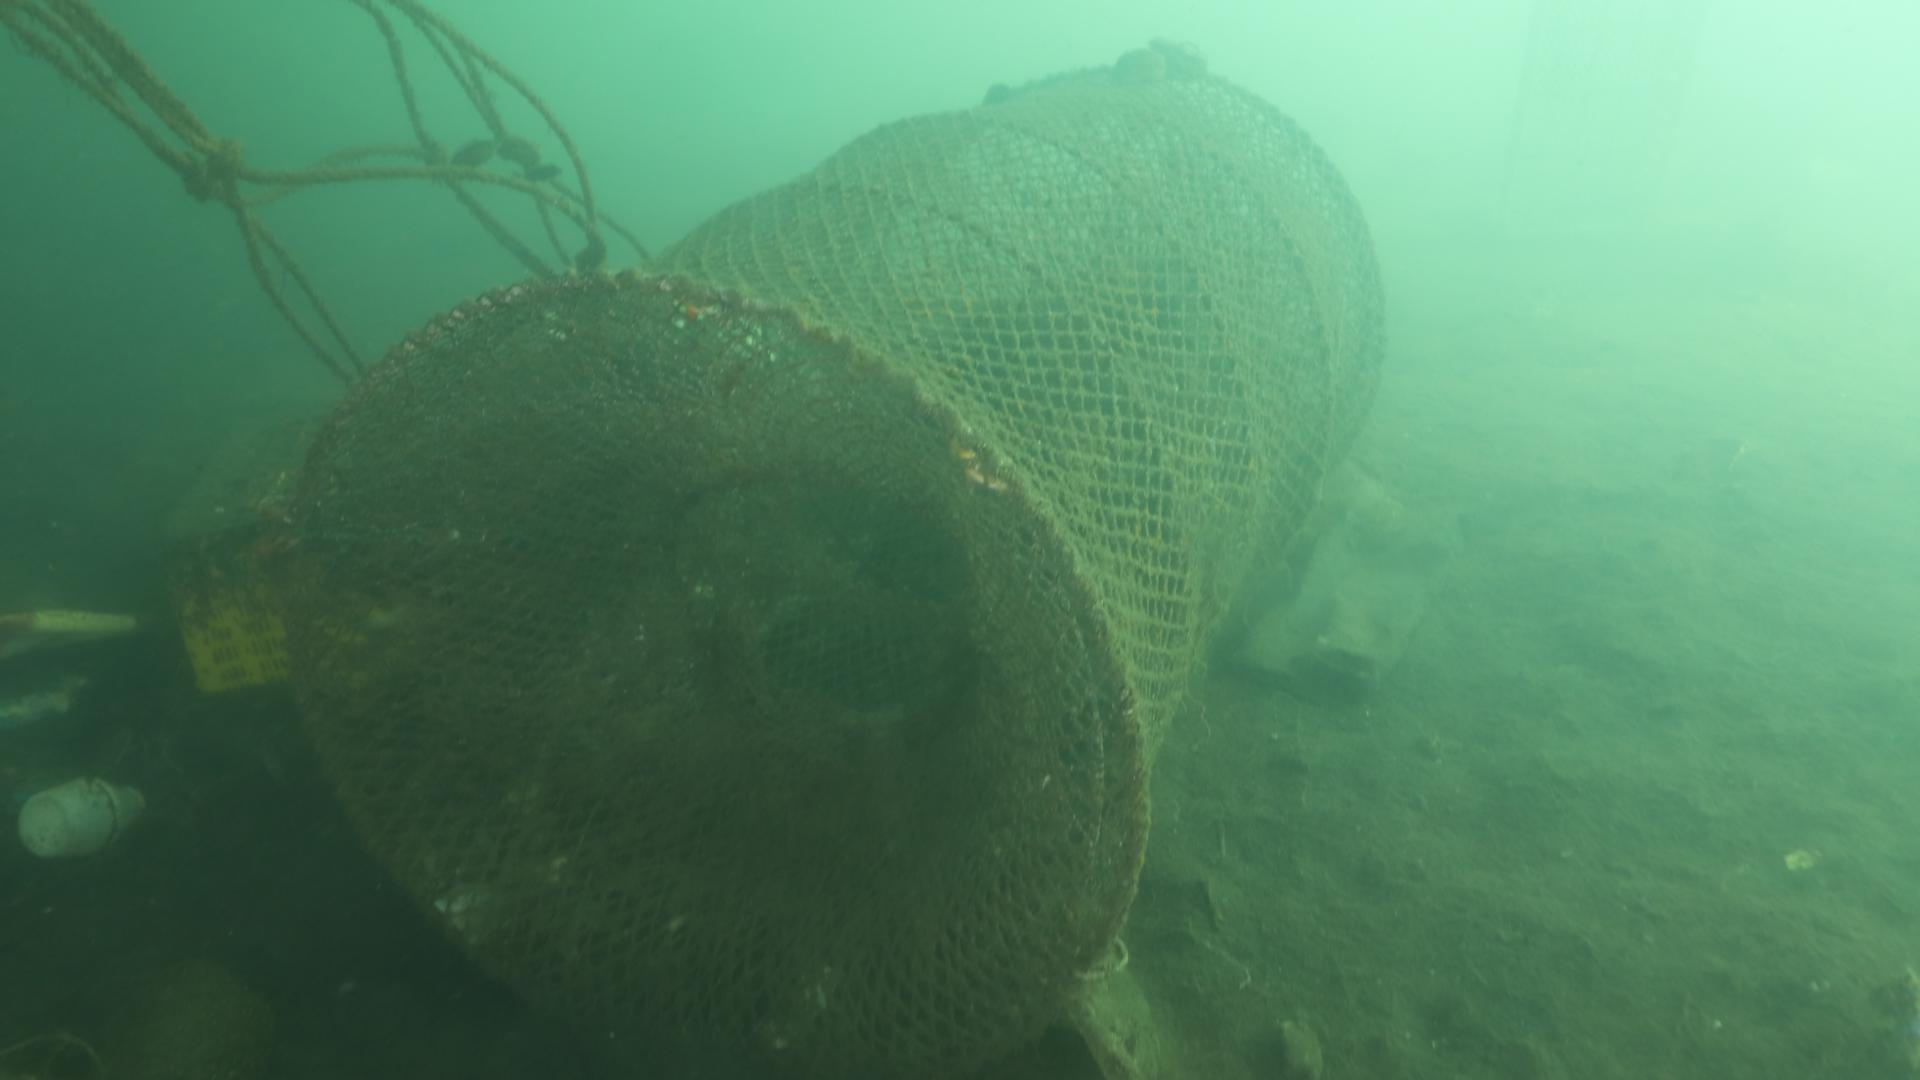bundle of ropes: (0, 0, 651, 388)
spring fish trap: (281, 62, 1389, 1080)
